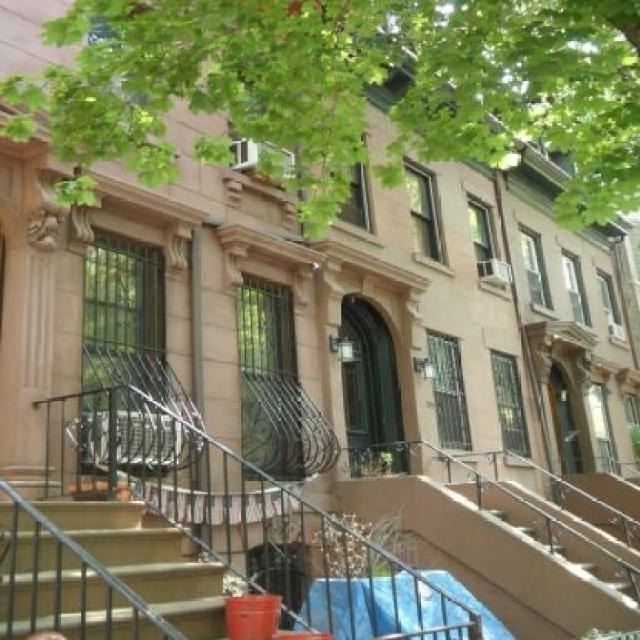stair: (0, 492, 248, 638), (477, 505, 640, 603)
